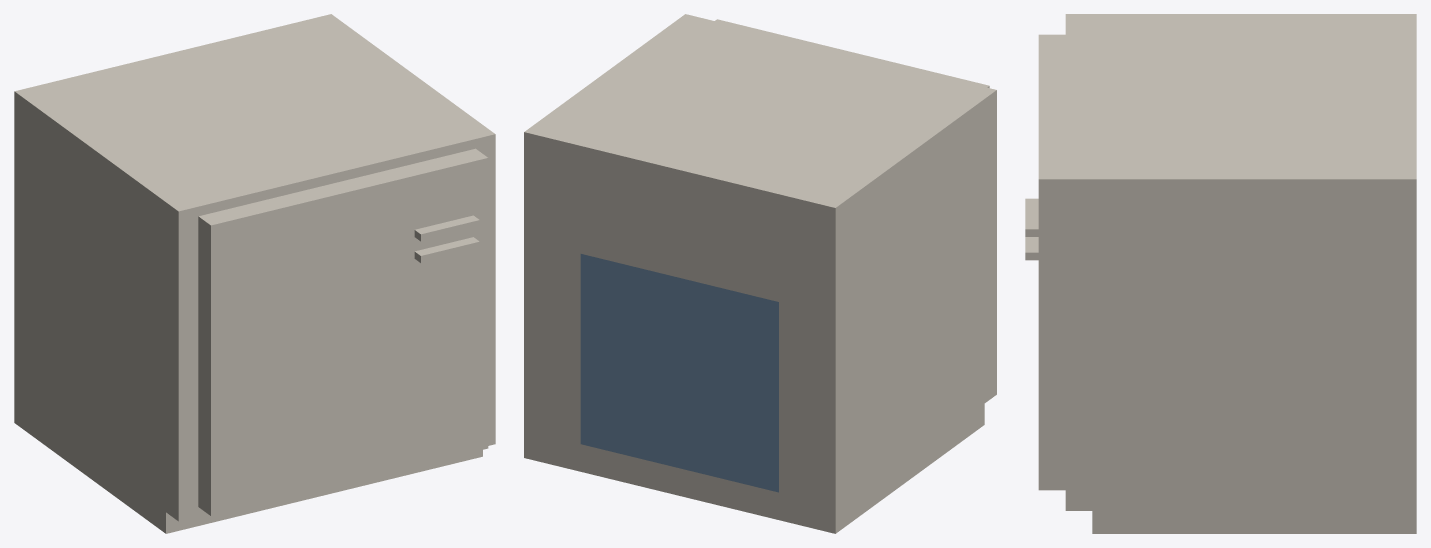
Rendered from kitchen-fridge.glb.
3 views of the same model, side by side, from view 1: azimuth 30°, elevation 25°; view 2: azimuth 150°, elevation 25°; view 3: azimuth 270°, elevation 25° (orthographic). The views are drawn at different scales.
Bounding box in the file's own units: 1 × 1 × 1.
